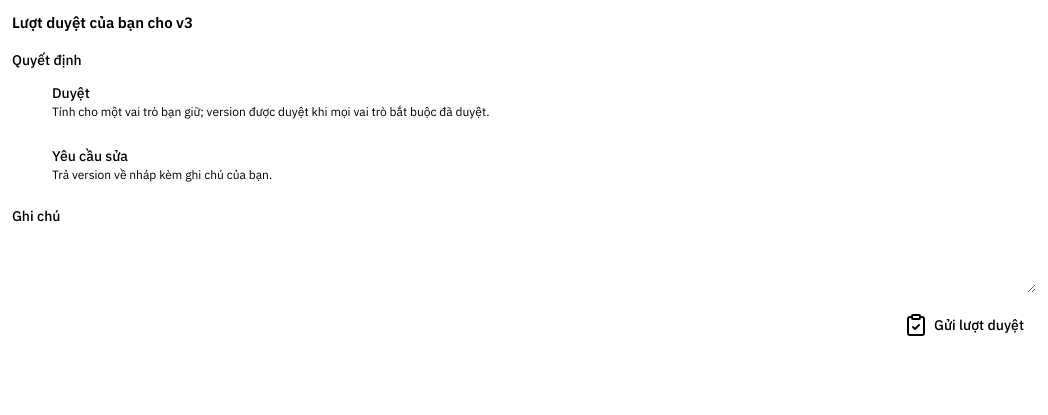
Test: ReviewForm with a lock › shows the hub's 409 as a refusal and reads the document and its findings again
Click the button with test id "srs-review-submit".
click(964, 325)  # box [892,309,1036,341]
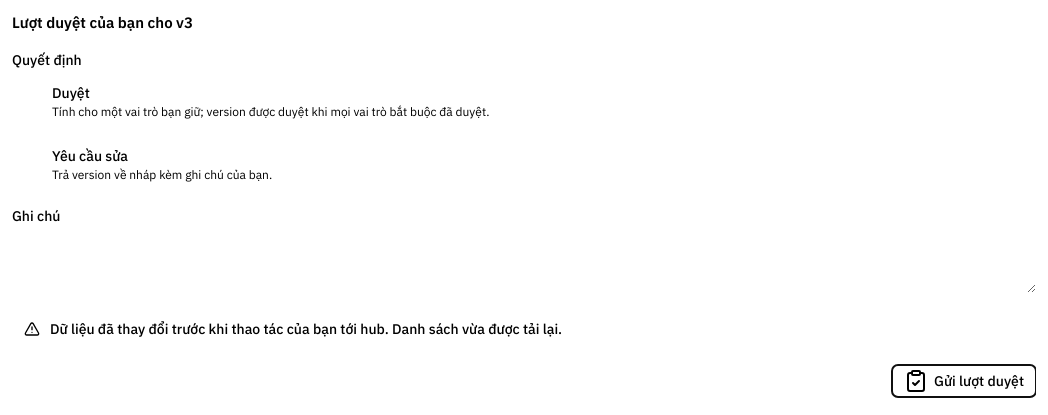
Expected: the message is shown, [24,320,562,338]
